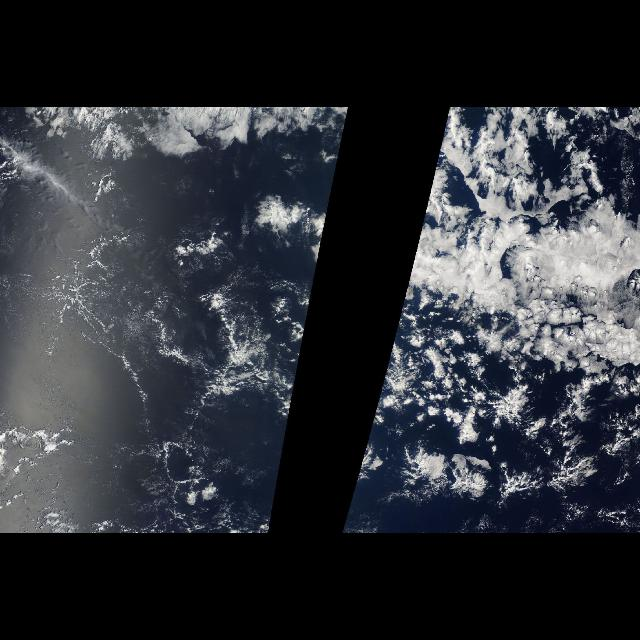Flower: (347, 233, 616, 517), (178, 232, 324, 506)
Gravel: (10, 151, 284, 534)
Sugar: (64, 246, 208, 370)
